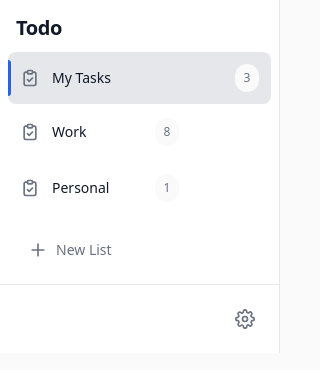
Test case: Sidebar › clicking "New List" shows the create input
Click the button with aria-label "Create new list".
click(140, 250)  # box [16,228,263,272]
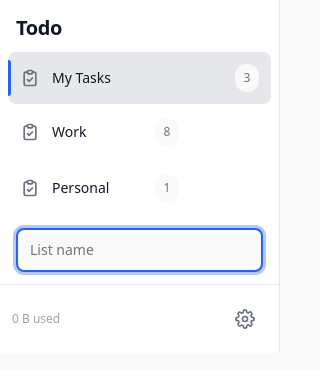
Expected: the field named "New list name" is shown, [16,228,263,272]
